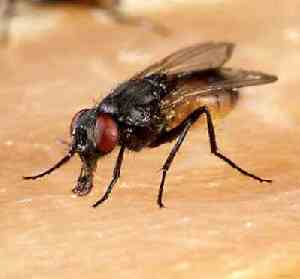house fly: (19, 39, 281, 211)
